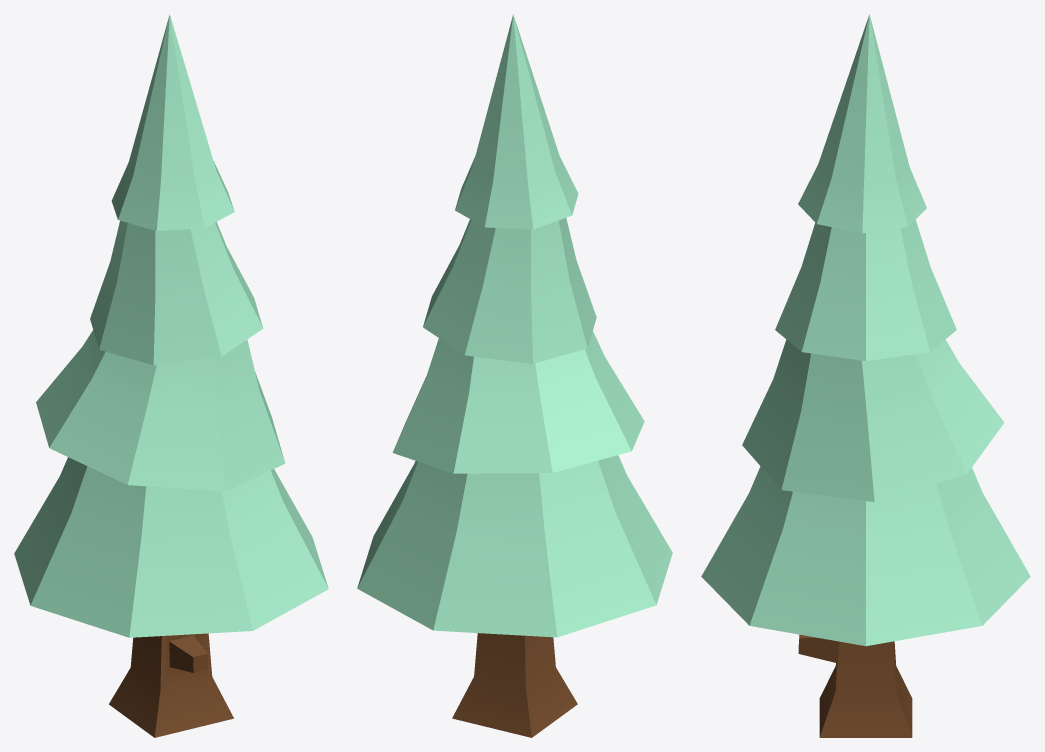
The model's file is Tree1.obj.
3 renders of one model, left to right at view 1: azimuth 30°, elevation 25°; view 2: azimuth 150°, elevation 25°; view 3: azimuth 270°, elevation 25°, orthographic.
Visible parts, largest first — view 1: Tree1:treeCrooked; view 2: Tree1:treeCrooked; view 3: Tree1:treeCrooked.
Part boxes in pixels (x1,y1,x2,y2): Tree1:treeCrooked: [14, 14, 328, 737]; Tree1:treeCrooked: [357, 14, 672, 737]; Tree1:treeCrooked: [701, 14, 1030, 737].
Size of the model in its own units: 1.02 by 2.41 by 1.02.
